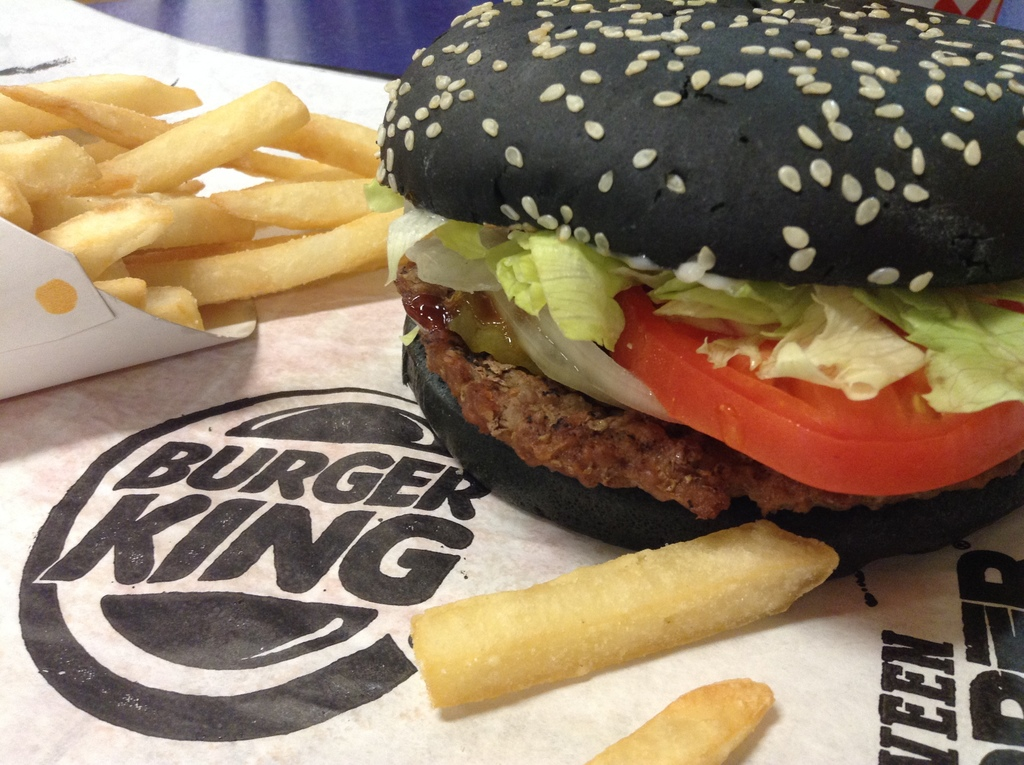French fries: (0, 46, 453, 318), (408, 517, 842, 709), (583, 674, 775, 764)
